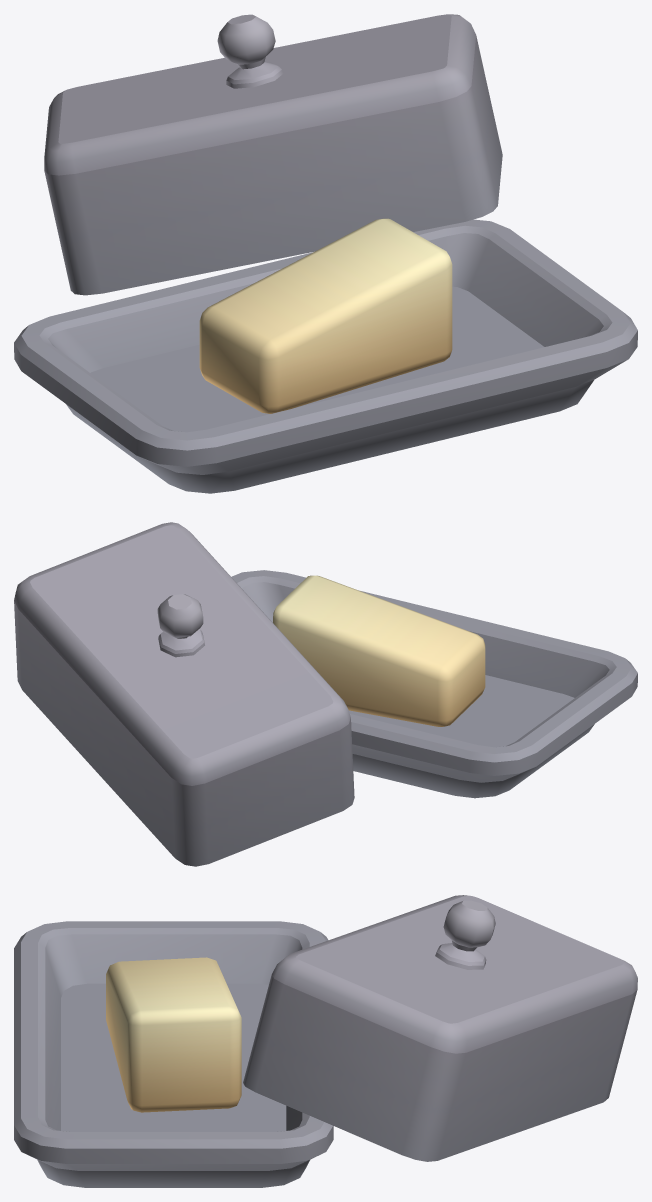
File: Butter_Ready.glb
3 renders of one model, top to bottom at view 1: azimuth 30°, elevation 25°; view 2: azimuth 150°, elevation 25°; view 3: azimuth 270°, elevation 25°, orthographic. The views are drawn at different scales.
Visible parts, largest first — view 1: Butter_Ready; view 2: Butter_Ready; view 3: Butter_Ready.
Boxes of the visible parts, x1,y1,x2,y2 form: Butter_Ready: (14, 14, 637, 493); Butter_Ready: (14, 522, 637, 866); Butter_Ready: (14, 895, 637, 1187).
Bounding box in the file's own units: 0.51 × 0.2202 × 0.5396.
Materials: 2 (2 with a texture image).
